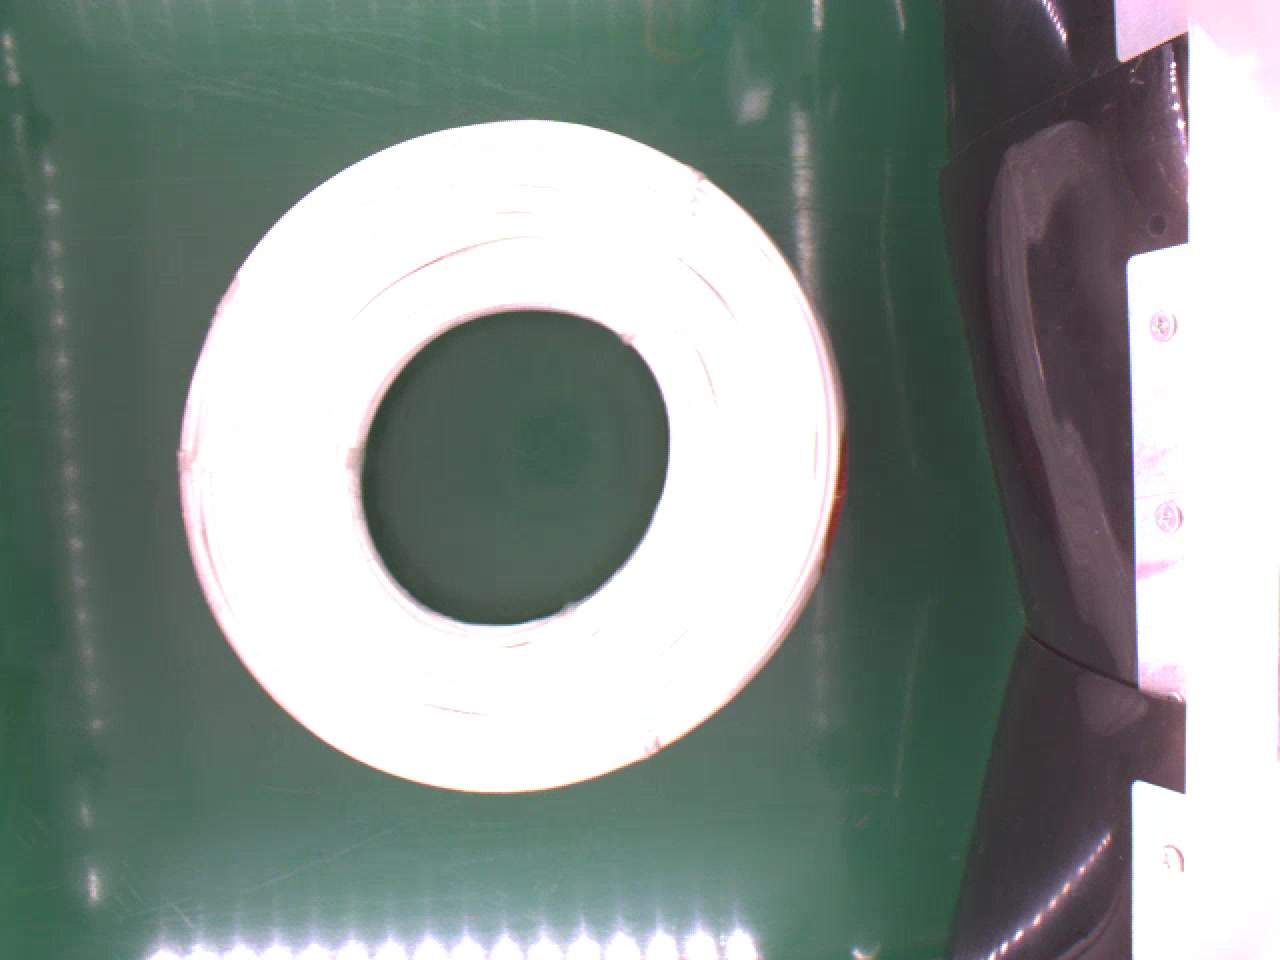white: (169, 117, 858, 804)
